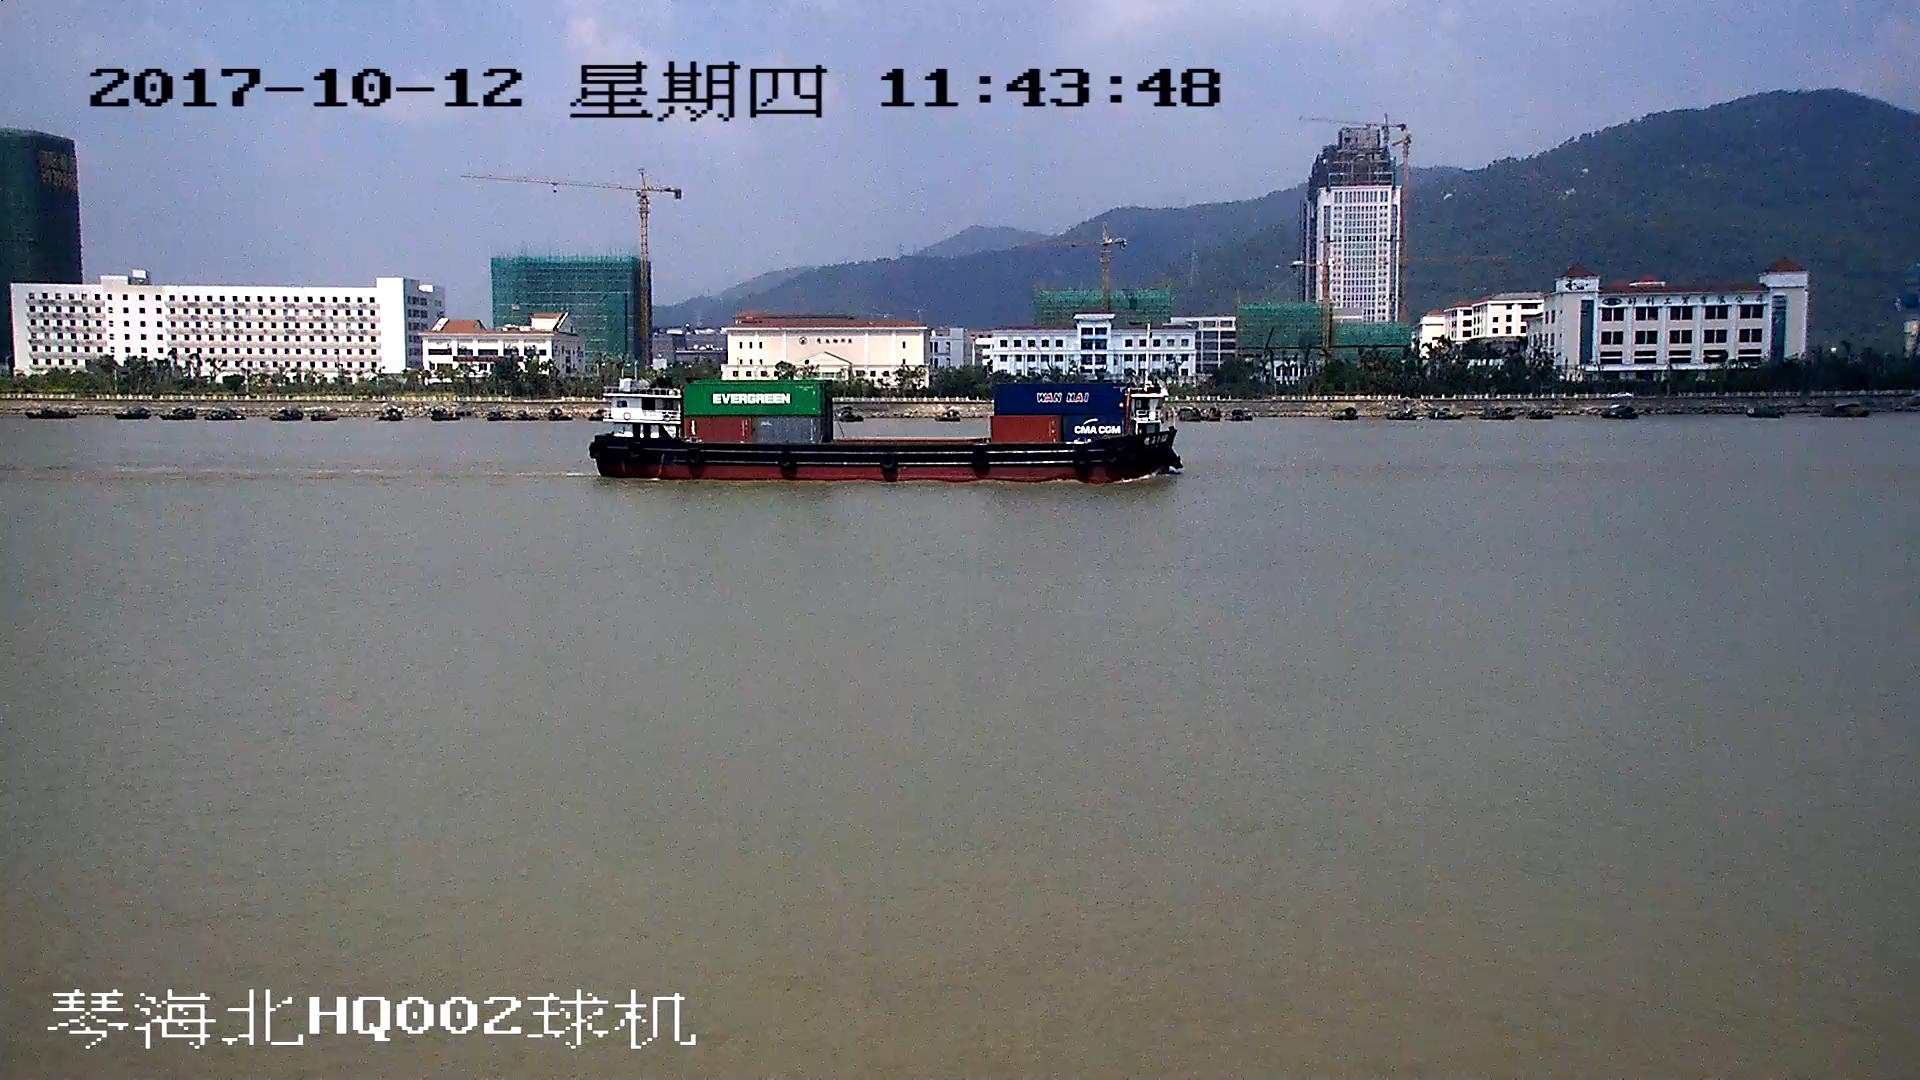container ship: (597, 375, 1178, 486)
